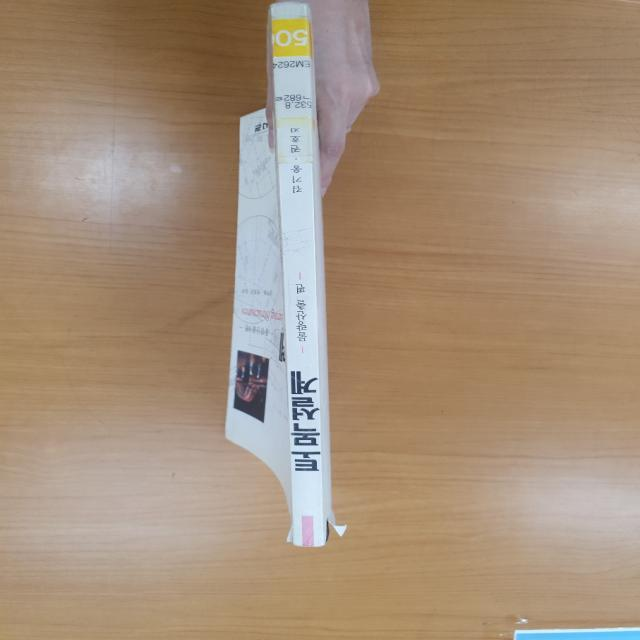Ripped: (314, 506, 352, 550), (282, 511, 299, 550)
